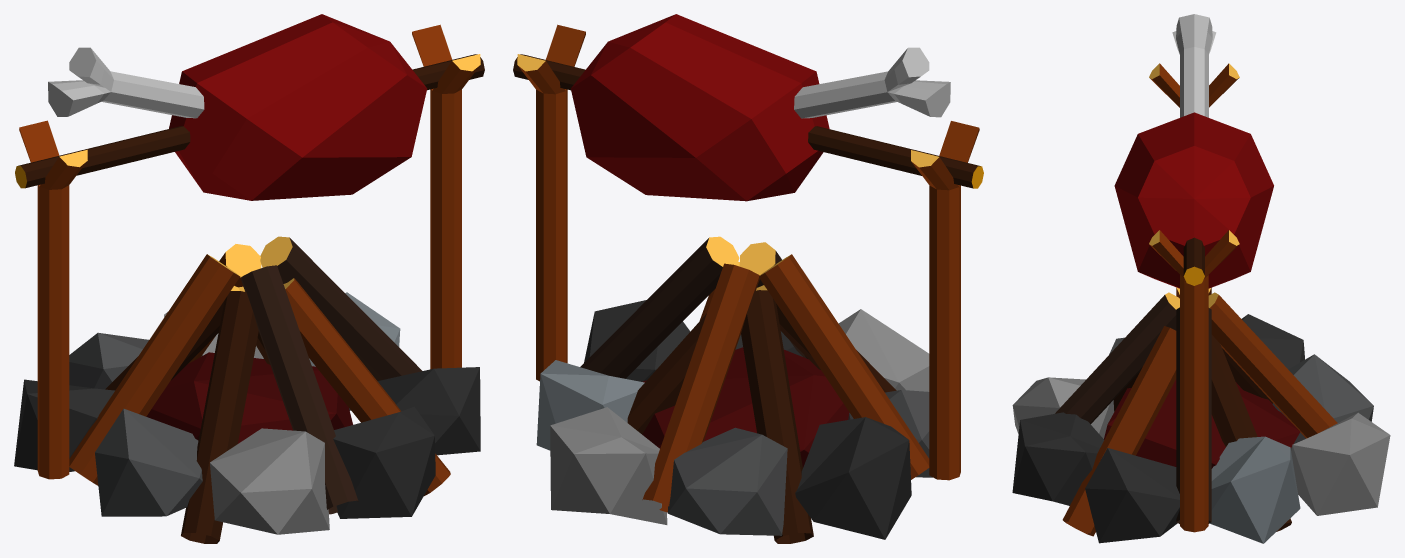
Rendered from firecamp.fbx.
3 views of the same model, side by side, from view 1: azimuth 30°, elevation 25°; view 2: azimuth 150°, elevation 25°; view 3: azimuth 270°, elevation 25° (orthographic). The views are drawn at different scales.
Parts seen in each view (by area): view 1: Cylinder.007, Sphere, Cylinder.008, Icosphere, Icosphere.001, Icosphere.002, Cylinder.010, Cylinder.009; view 2: Cylinder.007, Sphere, Icosphere.001, Cylinder.008, Icosphere, Icosphere.002, Cylinder.010, Cylinder.009; view 3: Cylinder.007, Sphere, Icosphere.001, Icosphere, Cylinder.008, Icosphere.002, Cylinder.010, Cylinder.009.
Boxes of the visible parts, left/top/right/bottom form: Cylinder.007: left=69, top=236, right=450, bottom=543; Sphere: left=169, top=14, right=427, bottom=200; Cylinder.008: left=19, top=24, right=480, bottom=479; Icosphere: left=69, top=292, right=435, bottom=518; Icosphere.001: left=14, top=312, right=480, bottom=534; Icosphere.002: left=146, top=352, right=352, bottom=443; Cylinder.010: left=48, top=47, right=204, bottom=118; Cylinder.009: left=15, top=54, right=484, bottom=188; Cylinder.007: left=580, top=236, right=929, bottom=543; Sphere: left=571, top=14, right=829, bottom=201; Icosphere.001: left=550, top=300, right=929, bottom=539; Cylinder.008: left=517, top=24, right=979, bottom=480; Icosphere: left=536, top=331, right=932, bottom=535; Icosphere.002: left=642, top=347, right=849, bottom=467; Cylinder.010: left=794, top=47, right=950, bottom=118; Cylinder.009: left=513, top=54, right=983, bottom=188; Cylinder.007: left=1055, top=287, right=1337, bottom=536; Sphere: left=1114, top=112, right=1273, bottom=288; Icosphere.001: left=1012, top=314, right=1390, bottom=543; Icosphere: left=1012, top=337, right=1373, bottom=543; Cylinder.008: left=1149, top=63, right=1239, bottom=532; Icosphere.002: left=1104, top=379, right=1300, bottom=468; Cylinder.010: left=1172, top=14, right=1216, bottom=117; Cylinder.009: left=1183, top=237, right=1204, bottom=285.
Size of the model in its own units: 418 by 411 by 344.
Materials: 1 (1 with a texture image).
